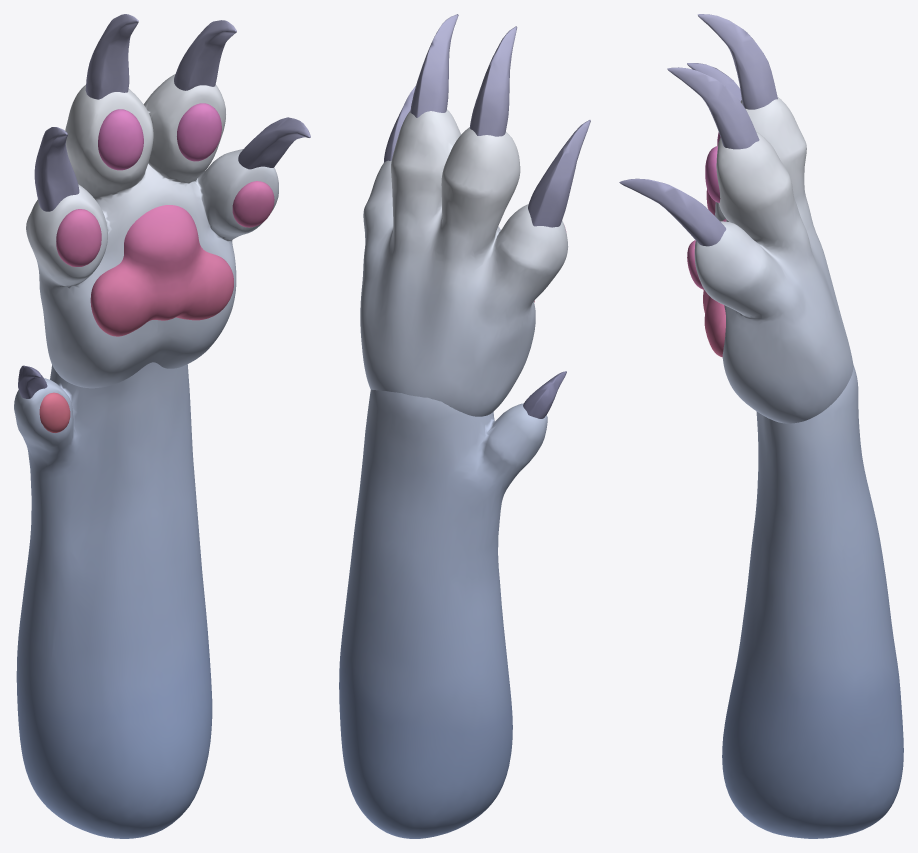
The model's file is jormunfenrir_Hand.fbx.
3 renders of one model, left to right at view 1: azimuth 30°, elevation 25°; view 2: azimuth 150°, elevation 25°; view 3: azimuth 270°, elevation 25°, orthographic. The views are drawn at different scales.
Visible parts, largest first — view 1: Jormunfenrir_Arm, Jormunfenrir_Paw; view 2: Jormunfenrir_Arm, Jormunfenrir_Paw; view 3: Jormunfenrir_Arm, Jormunfenrir_Paw.
Boxes of the visible parts, left/top/right/bottom form: Jormunfenrir_Arm: left=14, top=362, right=212, bottom=838; Jormunfenrir_Paw: left=26, top=14, right=310, bottom=388; Jormunfenrir_Arm: left=339, top=371, right=566, bottom=838; Jormunfenrir_Paw: left=360, top=14, right=590, bottom=416; Jormunfenrir_Arm: left=722, top=365, right=903, bottom=838; Jormunfenrir_Paw: left=619, top=14, right=853, bottom=423.
Bounding box in the file's own units: 1.66 × 5.99 × 1.93.
Materials: 1 (1 with a texture image).
